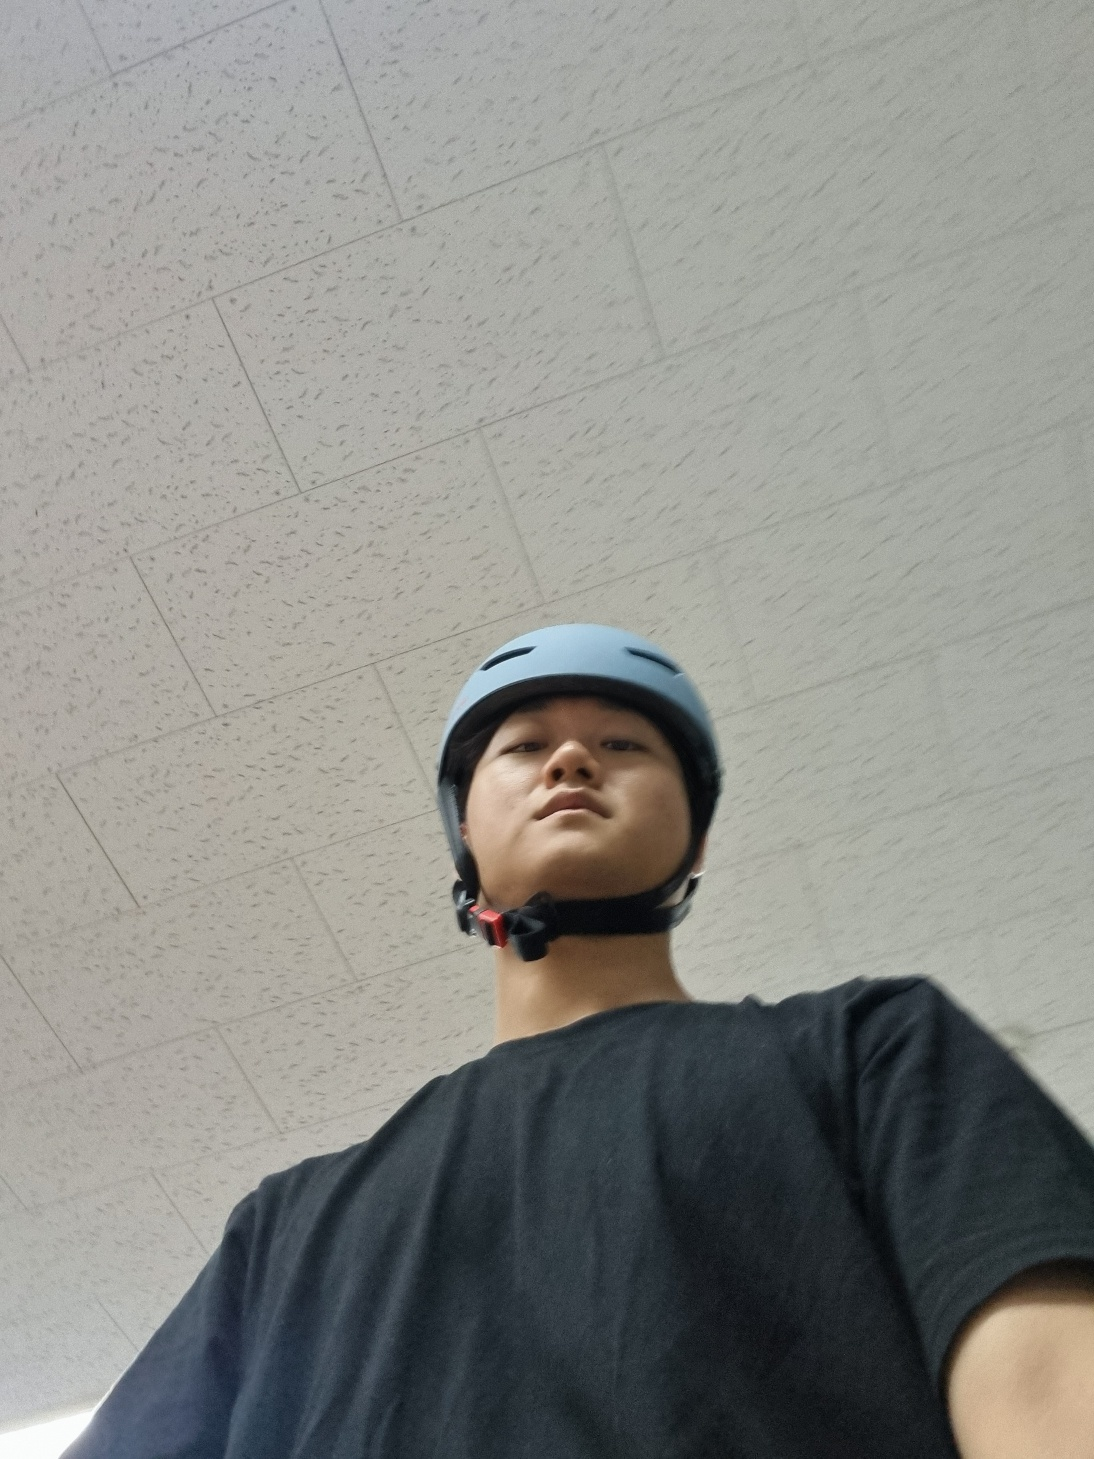Helmet: (365, 597, 788, 956)
